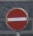No entry: (5, 6, 28, 31)
